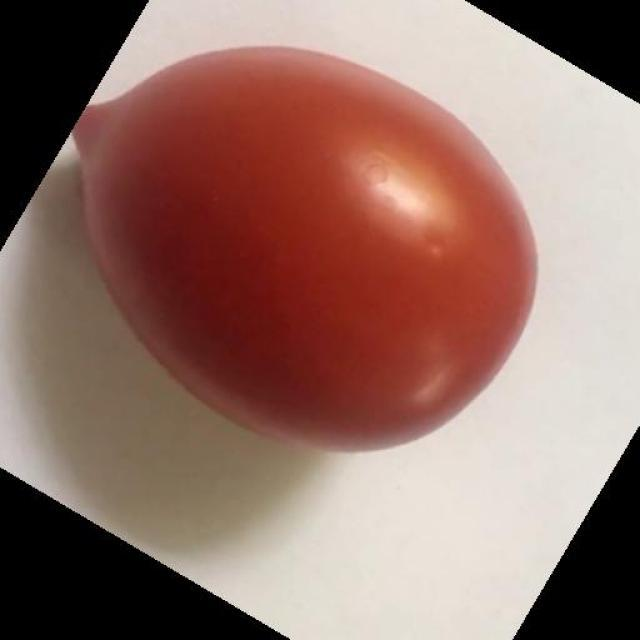Fresh Tomato: (32, 48, 540, 458)
